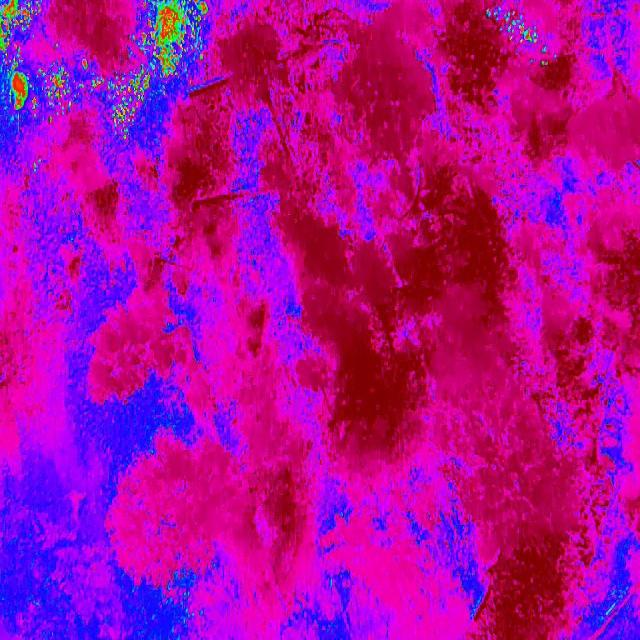fire: (45, 55, 152, 137), (133, 0, 209, 81), (0, 0, 45, 131), (486, 8, 553, 64)
